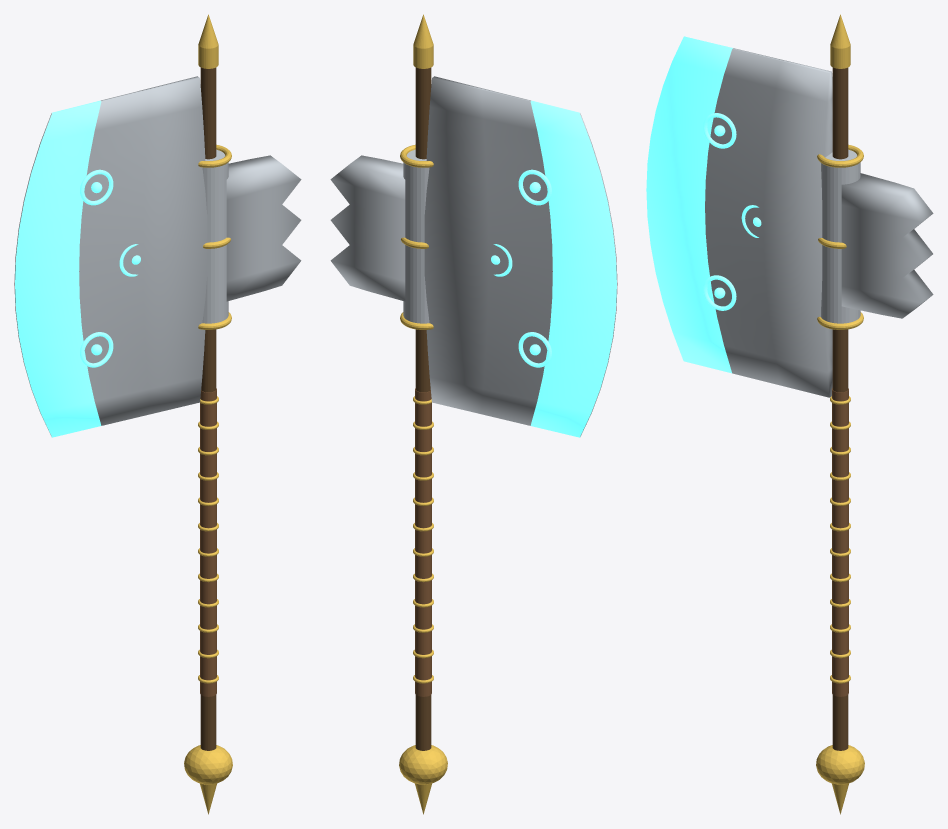
File: axe3.glb
The picture shows the model from 3 angles, left to right: view 1: azimuth 30°, elevation 25°; view 2: azimuth 150°, elevation 25°; view 3: azimuth 330°, elevation 25°; orthographic projection.
Visible parts, largest first — view 1: Blade, Hammer, Cylinder.003, Cylinder.001, Cylinder, Icosphere; view 2: Blade, Hammer, Cylinder.003, Cylinder.001, Cylinder, Icosphere; view 3: Blade, Hammer, Cylinder.003, Cylinder.001, Cylinder, Icosphere.
Boxes of the visible parts, x1,y1,x2,y2 form: Blade: (14, 76, 207, 437); Hammer: (226, 155, 301, 301); Cylinder.003: (200, 388, 216, 696); Cylinder.001: (202, 149, 228, 323); Cylinder: (200, 67, 216, 750); Icosphere: (184, 745, 232, 784); Blade: (424, 76, 617, 437); Hammer: (330, 155, 405, 301); Cylinder.003: (415, 388, 431, 696); Cylinder.001: (403, 149, 429, 323); Cylinder: (415, 67, 431, 750); Icosphere: (399, 745, 447, 784); Blade: (646, 36, 832, 397); Hammer: (841, 173, 933, 318); Cylinder.003: (832, 388, 848, 696); Cylinder.001: (821, 149, 860, 323); Cylinder: (832, 67, 848, 750); Icosphere: (816, 745, 864, 784).
Bounding box in the file's own units: 2.9 × 7.9 × 0.44.
